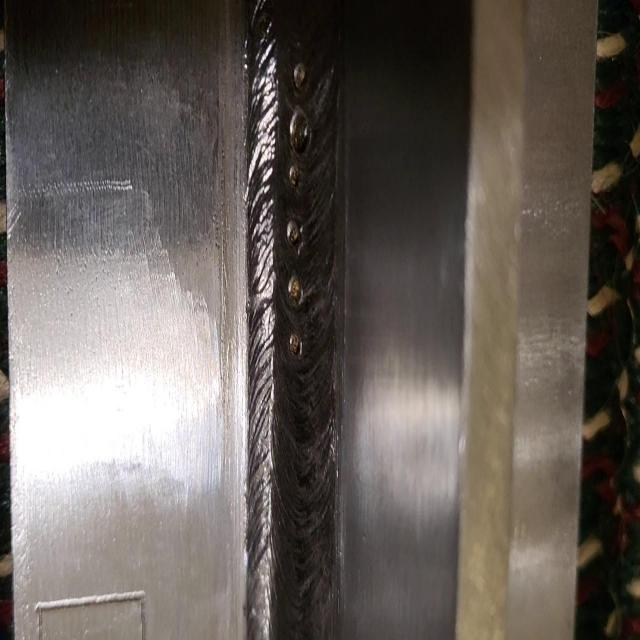Welding Line: (248, 0, 340, 640)
Workpiece: (9, 6, 574, 633)
porosity: (287, 62, 311, 355)
